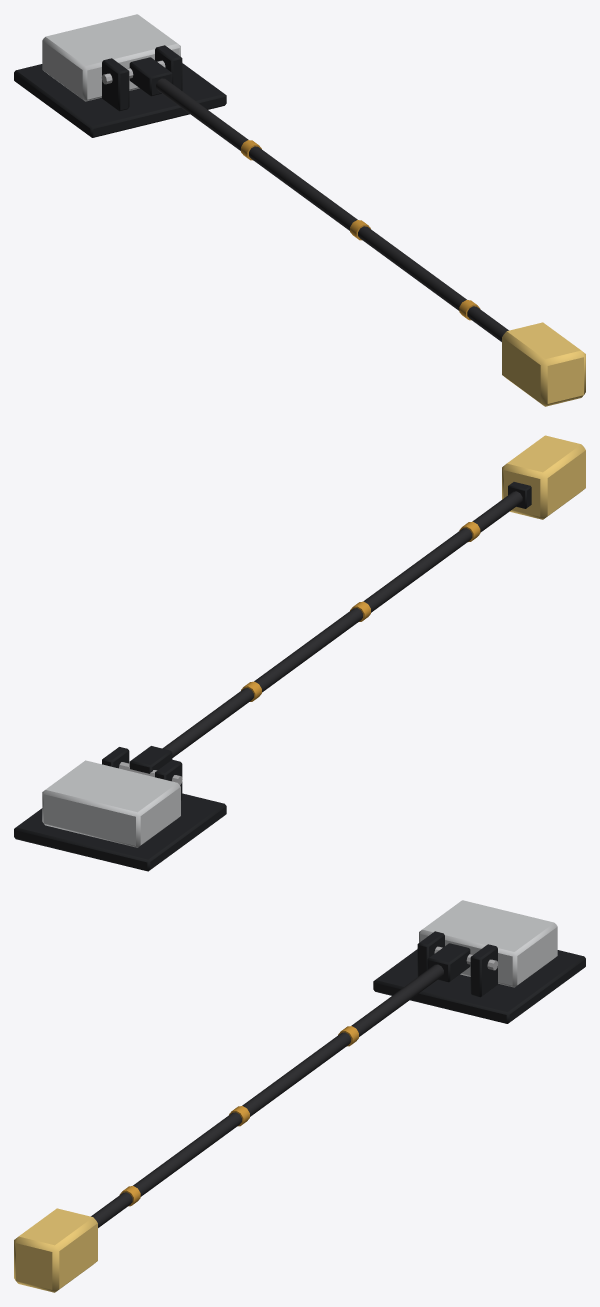
Rendered from mod_inst_magnetometer.glb.
3 renders of one model, top to bottom at view 1: azimuth 30°, elevation 25°; view 2: azimuth 150°, elevation 25°; view 3: azimuth 330°, elevation 25°, orthographic.
Visible parts, largest first — view 1: mod_inst_magnetometer, mag_boom; view 2: mod_inst_magnetometer, mag_boom; view 3: mod_inst_magnetometer, mag_boom.
Boxes of the visible parts, x1,y1,x2,y2 form: mod_inst_magnetometer: (14,14,226,137); mag_boom: (129,57,585,406); mod_inst_magnetometer: (14,747,226,871); mag_boom: (129,435,585,773); mod_inst_magnetometer: (373,900,585,1023); mag_boom: (14,943,470,1292).
Size of the model in its own units: 0.36 by 0.16 by 2.22.
